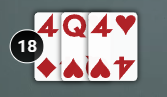4: (87, 9, 116, 41), (32, 10, 60, 39)
q: (58, 8, 89, 41)
